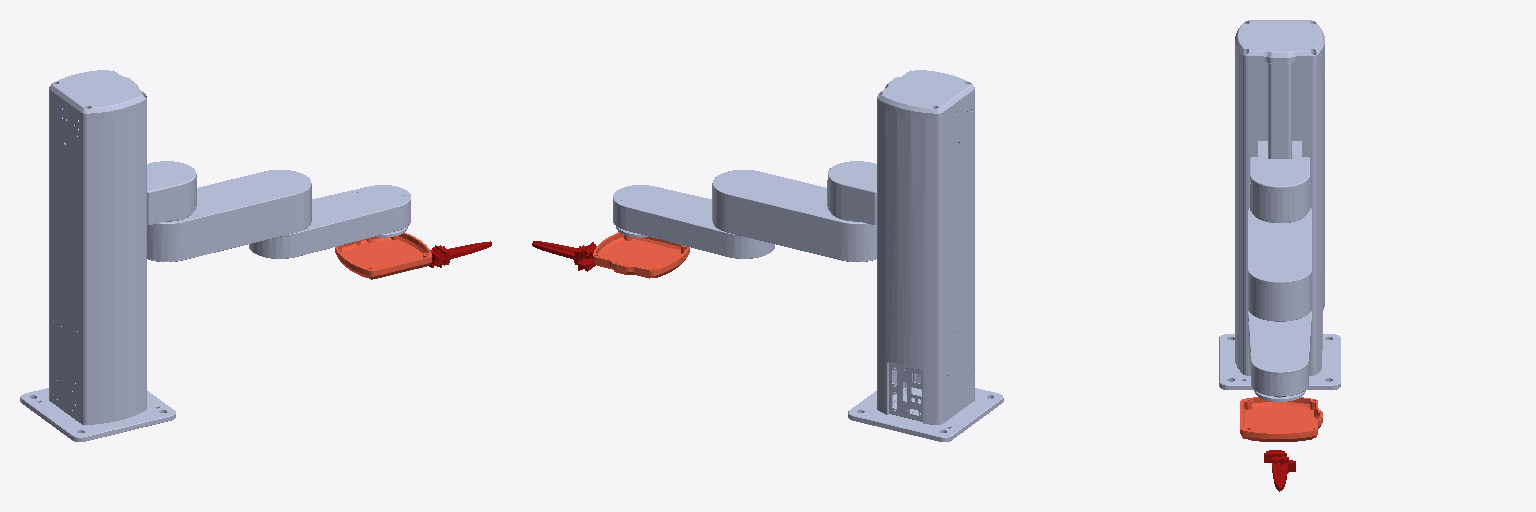
robot.urdf — hitbot_model:
<?xml version="1.0" encoding="utf-8"?>
<!-- This URDF was automatically created by SolidWorks to URDF Exporter! Originally created by [author] ([email redacted]) 
     Commit Version: 1.5.1-0-g916b5db  Build Version: 1.5.7152.31018
     For more information, please see http://wiki.ros.org/sw_urdf_exporter -->
<robot
  name="hitbot_model">
  <link name="world"/>
  <joint name="dz_joint" type="fixed">
      <parent link="world"/>
      <child link="body_link"/>
      <origin rpy="0 0 0" xyz="0.0 0.0 0"/>
  </joint>
  <link
    name="body_link">
    <inertial>
      <origin
        xyz="-0.0138312293560343 -0.000411866053746691 0.256337160167261"
        rpy="0 0 0" />
      <mass
        value="2.24199007833205" />
      <inertia
        ixx="0.050666129235398"
        ixy="5.31521674438104E-05"
        ixz="-0.000156170450349902"
        iyy="0.0494693482466178"
        iyz="-0.000576315154792083"
        izz="0.0102402447612877" />
    </inertial>
    <visual>
      <origin
        xyz="0 0 0"
        rpy="0 0 0" />
      <geometry>
        <mesh
          filename="package://hitbot_model/meshes/body_link.STL" />
      </geometry>
      <material
        name="">
        <color
          rgba="0.792156862745098 0.819607843137255 0.933333333333333 1" />
      </material>
    </visual>
    <collision>
      <origin
        xyz="0 0 0"
        rpy="0 0 0" />
      <geometry>
        <mesh
          filename="package://hitbot_model/meshes/body_link.STL" />
      </geometry>
    </collision>
  </link>
  <link
    name="base_link">
    <inertial>
      <origin
        xyz="-0.000504238516685096 1.59154905932969E-05 0.0050014568900997"
        rpy="0 0 0" />
      <mass
        value="0.094490170783716" />
      <inertia
        ixx="0.000178624359738372"
        ixy="-8.40549948296889E-08"
        ixz="2.54546420096447E-07"
        iyy="0.000156117511701691"
        iyz="-1.49252877491603E-08"
        izz="0.00033012228687413" />
    </inertial>
    <visual>
      <origin
        xyz="0 0 0"
        rpy="0 0 0" />
      <geometry>
        <mesh
          filename="package://hitbot_model/meshes/base_link.STL" />
      </geometry>
      <material
        name="">
        <color
          rgba="0.792156862745098 0.819607843137255 0.933333333333333 1" />
      </material>
    </visual>
    <collision>
      <origin
        xyz="0 0 0"
        rpy="0 0 0" />
      <geometry>
        <mesh
          filename="package://hitbot_model/meshes/base_link.STL" />
      </geometry>
    </collision>
  </link>
  <joint
    name="base_joint"
    type="fixed">
    <origin
      xyz="0.00090051088649255 7.09655350831888E-05 0.5959999999999"
      rpy="-3.14159265358979 0 0" />
    <parent
      link="body_link" />
    <child
      link="base_link" />
    <axis
      xyz="0 0 0" />
  </joint>
  <link
    name="link1">
    <inertial>
      <origin
        xyz="0.0803198875267692 0.000148780846096892 0.0252265897594202"
        rpy="0 0 0" />
      <mass
        value="0.993707406775757" />
      <inertia
        ixx="0.000950129221388707"
        ixy="1.444594708905E-05"
        ixz="-7.3306728552493E-05"
        iyy="0.0034288996904372"
        iyz="-2.09120551931999E-06"
        izz="0.00392501623548472" />
    </inertial>
    <visual>
      <origin
        xyz="0 0 0"
        rpy="0 0 0" />
      <geometry>
        <mesh
          filename="package://hitbot_model/meshes/link1.STL" />
      </geometry>
      <material
        name="">
        <color
          rgba="0.792156862745098 0.819607843137255 0.933333333333333 1" />
      </material>
    </visual>
    <collision>
      <origin
        xyz="0 0 0"
        rpy="0 0 0" />
      <geometry>
        <mesh
          filename="package://hitbot_model/meshes/link1.STL" />
      </geometry>
    </collision>
  </link>
  <joint
    name="joint1"
    type="prismatic">
    <origin
      xyz="0 0 0.2"
      rpy="0 0 0" />
    <parent
      link="base_link" />
    <child
      link="link1" />
    <axis
      xyz="0 0 -1" />
    <dynamics damping="1.0" friction="1.0"/>

    <limit
      lower="-0.24"
      upper="0"
      effort="20000"
      velocity="1" />
  </joint>
  <link
    name="link2">
    <inertial>
      <origin
        xyz="0.111249550444613 -2.84576828027787E-05 0.0351257105818027"
        rpy="0 0 0" />
      <mass
        value="2.38895531285534" />
      <inertia
        ixx="0.00304095107135875"
        ixy="-2.82822461071595E-06"
        ixz="-9.45396417967291E-05"
        iyy="0.019383542501021"
        iyz="1.44224511595836E-08"
        izz="0.0205254157711382" />
    </inertial>
    <visual>
      <origin
        xyz="0 0 0"
        rpy="0 0 0" />
      <geometry>
        <mesh
          filename="package://hitbot_model/meshes/link2.STL" />
      </geometry>
      <material
        name="">
        <color
          rgba="0.792156862745098 0.819607843137255 0.933333333333333 1" />
      </material>
    </visual>
    <collision>
      <origin
        xyz="0 0 0"
        rpy="0 0 0" />
      <geometry>
        <mesh
          filename="package://hitbot_model/meshes/link2.STL" />
      </geometry>
    </collision>
  </link>
  <joint
    name="joint2"
    type="revolute">
    <origin
      xyz="0.13184 0 0.057"
      rpy="0 0 0" />
    <parent
      link="link1" />
    <child
      link="link2" />
    <axis
      xyz="0 0 -1" />
    <dynamics damping="1.0" friction="1.0"/>

    <limit
      lower="-1.57"
      upper="1.57"
      effort="20"
      velocity="1" />
  </joint>
  <link
    name="link3">
    <inertial>
      <origin
        xyz="0.103737453550935 0.000112252164890934 0.0245926645099695"
        rpy="0 0 0" />
      <mass
        value="1.27407967572994" />
      <inertia
        ixx="0.00115905903075006"
        ixy="1.78715743351137E-06"
        ixz="7.11254737335535E-06"
        iyy="0.00812504052713108"
        iyz="3.79494507754339E-07"
        izz="0.00893595498849774" />
    </inertial>
    <visual>
      <origin
        xyz="0 0 0"
        rpy="0 0 0" />
      <geometry>
        <mesh
          filename="package://hitbot_model/meshes/link3.STL" />
      </geometry>
      <material
        name="">
        <color
          rgba="0.792156862745098 0.819607843137255 0.933333333333333 1" />
      </material>
    </visual>
    <collision>
      <origin
        xyz="0 0 0"
        rpy="0 0 0" />
      <geometry>
        <mesh
          filename="package://hitbot_model/meshes/link3.STL" />
      </geometry>
    </collision>
  </link>
  <joint
    name="joint3"
    type="revolute">
    <origin
      xyz="0.22 -9.923E-05 0.0722"
      rpy="0 0 0" />
    <parent
      link="link2" />
    <child
      link="link3" />
    <axis
      xyz="0 0 -1" />
    <dynamics damping="1.0" friction="1.0"/>

    <limit
      lower="-2.861"
      upper="0.093"
      effort="20"
      velocity="1" />
  </joint>
  <link
    name="link4">
    <inertial>
      <origin
        xyz="0.00021624 -0.040234 -0.0069938"
        rpy="0 0 0" />
      <mass
        value="0.28445" />
      <inertia
        ixx="0.00029735"
        ixy="-2.8536E-06"
        ixz="-5.3116E-09"
        iyy="0.00015844"
        iyz="-1.2155E-05"
        izz="0.00036539" />
    </inertial>
    <visual>
      <origin
        xyz="0 0 0.061"
        rpy="0 3.1415926 1.5707963" />
      <geometry>
        <mesh
          filename="package://gripper_urdf/meshes/base_link.STL" />
      </geometry>
      <material
        name="">
        <color
          rgba="1 0.42353 0.3098 1" />
      </material>
    </visual>
    <collision>
      <origin
       xyz="0 0 0.061"
       rpy="0 3.1415926 1.5707963"  />
      <geometry>
        <mesh
          filename="package://gripper_urdf/meshes/base_link.STL" />
      </geometry>
    </collision>
  </link>

  <joint
    name="joint4"
    type="revolute">
    <origin
      xyz="0.2 0 0.0564"
      rpy="0 0 0" />
    <parent
      link="link3" />
    <child
      link="link4" />
    <axis
      xyz="0 0 -1" />
    <dynamics damping="1.0" friction="1.0"/>

    <limit
      lower="-1.75"
      upper="1.75"
      effort="20"
      velocity="1" />
  </joint>

  <link
    name="ee_link">
    <inertial>
      <origin
        xyz="-0.120961196947787 0.000840350747411248 0.0025036714107482"
        rpy="0 0 0" />
      <mass
        value="0.206819921782837" />
      <inertia
        ixx="6.24479115732683E-05"
        ixy="2.8640247649744E-06"
        ixz="-1.57867719100882E-08"
        iyy="0.00015978421821829"
        iyz="1.9833864532431E-07"
        izz="0.000179272223884709" />
    </inertial>
  </link>
  <joint
    name="ee_joint"
    type="fixed">
    <origin
      xyz="0.18355 -0.0005 0.077"
      rpy="3.14159265358979 0 0" />
    <parent
      link="link4" />
    <child
      link="ee_link" />
    <axis
      xyz="0 0 0" />
  </joint>
  <link
    name="gripper_1">
    <inertial>
      <origin
        xyz="0.0014935 -0.12244 -0.016352"
        rpy="0 0 0" />
      <mass
        value="0.020256" />
      <inertia
        ixx="6.4964E-06"
        ixy="-6.3521E-08"
        ixz="1.0077E-07"
        iyy="1.3519E-06"
        iyz="-1.3159E-07"
        izz="7.1948E-06" />
    </inertial>
    <visual>
      <origin
        xyz="0 0 0.061"
        rpy="0 3.1415926 1.5707963"/>
      <geometry>
        <mesh
          filename="package://gripper_urdf/meshes/gripper_1.STL" />
      </geometry>
      <material
        name="">
        <color
          rgba="0.69412 0.098039 0.098039 1" />
      </material>
    </visual>
    <collision>
      <origin
        xyz="0 0 0.061"
        rpy="0 3.1415926 1.5707963" />
      <geometry>
        <mesh
          filename="package://gripper_urdf/meshes/gripper_1.STL" />
      </geometry>
    </collision>
  </link>
  <joint
    name="g_joint_1"
    type="prismatic">
    <origin
      xyz="0 0 0"
      rpy="0 0 0" />
    <parent
      link="link4" />
    <child
      link="gripper_1" />
    <axis
      xyz="0 -1 0" />
    <dynamics damping="1.0" friction="1.0"/>



    <limit
      lower="0"
      upper="0.03"
      effort="100"
      velocity="3" />
  </joint>
  
  <link
    name="gripper_2">
    <inertial>
      <origin
        xyz="-0.0018182 -0.12413 -0.02152"
        rpy="0 0 0" />
      <mass
        value="0.021464" />
      <inertia
        ixx="7.4096E-06"
        ixy="7.4468E-08"
        ixz="1.0288E-07"
        iyy="1.3868E-06"
        iyz="1.1201E-07"
        izz="8.0959E-06" />
    </inertial>
    <visual>
      <origin
        xyz="0 0 0.061"
        rpy="0 3.1415926 1.5707963" />
      <geometry>
        <mesh
          filename="package://gripper_urdf/meshes/gripper_2.STL" />
      </geometry>
      <material
        name="">
        <color
          rgba="0.69412 0.098039 0.098039 1" />
      </material>
    </visual>
    <collision>
      <origin
        xyz="0 0 0.061"
        rpy="0 3.1415926 1.5707963" />
      <geometry>
        <mesh
          filename="package://gripper_urdf/meshes/gripper_2.STL" />
      </geometry>
    </collision>
  </link>
  <joint
    name="g_joint2"
    type="prismatic">
    <origin
      xyz="0 0 0"
      rpy="0 0 0" />
    <parent
      link="link4" />
    <child
      link="gripper_2" />
    <axis
      xyz="0 -1 0" />
    <limit
      lower="-0.03"
      upper="0"
      effort="100"
      velocity="3" />
    <dynamics damping="1.0" friction="1.0"/>
    
    <mimic joint="g_joint_1" multiplier="-1" offset="0" />
  </joint>
  
  
  <!-- Gazebo Mimic Joint Plugin -->
  <gazebo>
    <plugin name="g_joint2_mimic_joint_plugin" filename="libroboticsgroup_gazebo_mimic_joint_plugin.so">
      <joint>g_joint_1</joint>
      <mimicJoint>g_joint2</mimicJoint>
      <multiplier>-1.0 </multiplier>    
      <offset>0.0 </offset>

    </plugin>
  </gazebo>









  <transmission name="link_1_trans">
	<type>transmission_interface/SimpleTransmission</type>
	<joint name="joint1">
		<hardwareInterface>hardware_interface/PositionJointInterface</hardwareInterface>
	</joint>
	<actuator name="link_1_motor">
		<hardwareInterface>hardware_interface/PositionJointInterface</hardwareInterface>
		<mechanicalReduction>1</mechanicalReduction>
	</actuator>
  </transmission>

  <transmission name="link_2_trans">
	<type>transmission_interface/SimpleTransmission</type>
	<joint name="joint2">
		<hardwareInterface>hardware_interface/PositionJointInterface</hardwareInterface>
	</joint>
	<actuator name="link_2_motor">
		<hardwareInterface>hardware_interface/PositionJointInterface</hardwareInterface>
		<mechanicalReduction>1</mechanicalReduction>
	</actuator>
  </transmission>

  <transmission name="link_3_trans">
	<type>transmission_interface/SimpleTransmission</type>
	<joint name="joint3">
		<hardwareInterface>hardware_interface/PositionJointInterface</hardwareInterface>
	</joint>
	<actuator name="link_3_motor">
		<hardwareInterface>hardware_interface/PositionJointInterface</hardwareInterface>
		<mechanicalReduction>1</mechanicalReduction>
	</actuator>
  </transmission>

  <transmission name="link_4_trans">
	<type>transmission_interface/SimpleTransmission</type>
	<joint name="joint4">
		<hardwareInterface>hardware_interface/PositionJointInterface</hardwareInterface>
	</joint>
	<actuator name="link_4_motor">
		<hardwareInterface>hardware_interface/PositionJointInterface</hardwareInterface>
		<mechanicalReduction>1</mechanicalReduction>
	</actuator>
  </transmission>


  <transmission name="gripper_1_trans">
	<type>transmission_interface/SimpleTransmission</type>
	<joint name="g_joint_1">
		<hardwareInterface>hardware_interface/PositionJointInterface</hardwareInterface>
	</joint>
	<actuator name="gripper_1_motor">
		<hardwareInterface>hardware_interface/PositionJointInterface</hardwareInterface>
		<mechanicalReduction>1</mechanicalReduction>
	</actuator>
  </transmission>

  <!--transmission name="gripper_2_trans">          
	<type>transmission_interface/SimpleTransmission</type>
	<joint name="g_joint2">
		<hardwareInterface>hardware_interface/EffortJointInterface</hardwareInterface>
	</joint>
	<actuator name="gripper_2_motor">
		<hardwareInterface>hardware_interface/EffortJointInterface</hardwareInterface>
		<mechanicalReduction>1</mechanicalReduction>
	</actuator>
  </transmission-->
  

  <gazebo reference="link1">
	<selfCollide>true</selfCollide>
  </gazebo>

  <gazebo reference="link2">
	<selfCollide>true</selfCollide>
  </gazebo>

  <gazebo reference="link3">
	<selfCollide>true</selfCollide>
  </gazebo>

  <gazebo reference="link4">
	<selfCollide>true</selfCollide>
  </gazebo>
  

  
  <gazebo reference="gripper_1">
	<selfCollide>true</selfCollide>
  <kp>1000000.0</kp>
  <kd>1.0</kd>
  <mu1>1.0</mu1>
  <mu2>1.0</mu2>
  <minDepth>0.001</minDepth>
  </gazebo>

  <gazebo reference="gripper_2">
	<selfCollide>true</selfCollide>
  <kp>1000000.0</kp>
  <kd>1.0</kd>
  <mu1>1.0</mu1>
  <mu2>1.0</mu2>
  <minDepth>0.001</minDepth>
  </gazebo>

  <gazebo>

            <plugin name="gazebo_grasp_fix" filename="libgazebo_grasp_fix.so">
                <arm>
                    <arm_name>hls_gripper</arm_name>
                    <palm_link>link4</palm_link>
                    <gripper_link> gripper_1 </gripper_link>
                    <gripper_link> gripper_2 </gripper_link>
                </arm>
                <forces_angle_tolerance>150</forces_angle_tolerance>
                <update_rate>40</update_rate>
                <grip_count_threshold>4</grip_count_threshold>
                <max_grip_count>10</max_grip_count>
                <release_tolerance>0.0001</release_tolerance>
                <disable_collision_on_attach>false</disable_collision_on_attach>
                <contact_topic>__default_topic__</contact_topic>
            </plugin>
  </gazebo>


  <gazebo>
	<plugin name="gazebo_control" filename="libgazebo_ros_control.so">
		<robotNamespace>/</robotNamespace>
	</plugin>
  </gazebo>

  
</robot>

--- Facts derived from the render (not from the file) ---
Views: 3 orthographic renders of the robot side by side, from view 1: azimuth 30°, elevation 25°; view 2: azimuth 150°, elevation 25°; view 3: azimuth 270°, elevation 25°.
Model hitbot_model with 10 links and 9 joints (3 revolute, 3 prismatic, 3 fixed), rooted at world, posed all joints at 0.
Visible links, largest first — view 1: body_link, link2, link3, link4, link1; view 2: body_link, link2, link3, link4, link1, gripper_1; view 3: body_link, link2, link3, link1, link4.
Boxes of the visible links, bbox=[...] form: body_link: bbox=[20, 70, 175, 441]; link2: bbox=[147, 170, 311, 261]; link3: bbox=[249, 185, 410, 258]; link4: bbox=[335, 232, 431, 279]; link1: bbox=[147, 161, 196, 224]; body_link: bbox=[848, 70, 1003, 441]; link2: bbox=[712, 170, 876, 261]; link3: bbox=[613, 185, 774, 258]; link4: bbox=[593, 232, 689, 278]; link1: bbox=[827, 161, 876, 224]; gripper_1: bbox=[532, 242, 596, 264]; body_link: bbox=[1219, 20, 1340, 389]; link2: bbox=[1248, 208, 1311, 321]; link3: bbox=[1248, 311, 1311, 401]; link1: bbox=[1250, 141, 1309, 222]; link4: bbox=[1240, 397, 1322, 441].
Bounding box of the posed robot: 0.8629 × 0.2 × 0.596 m (x, y, z).
8 mesh visuals loaded from 8 distinct referenced files (7 binary STL).
